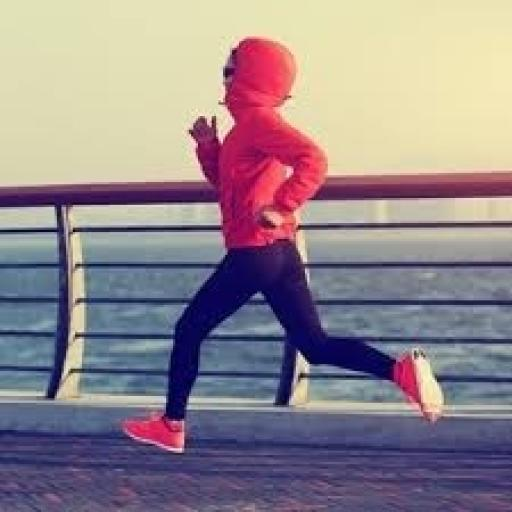running: (118, 34, 450, 458)
